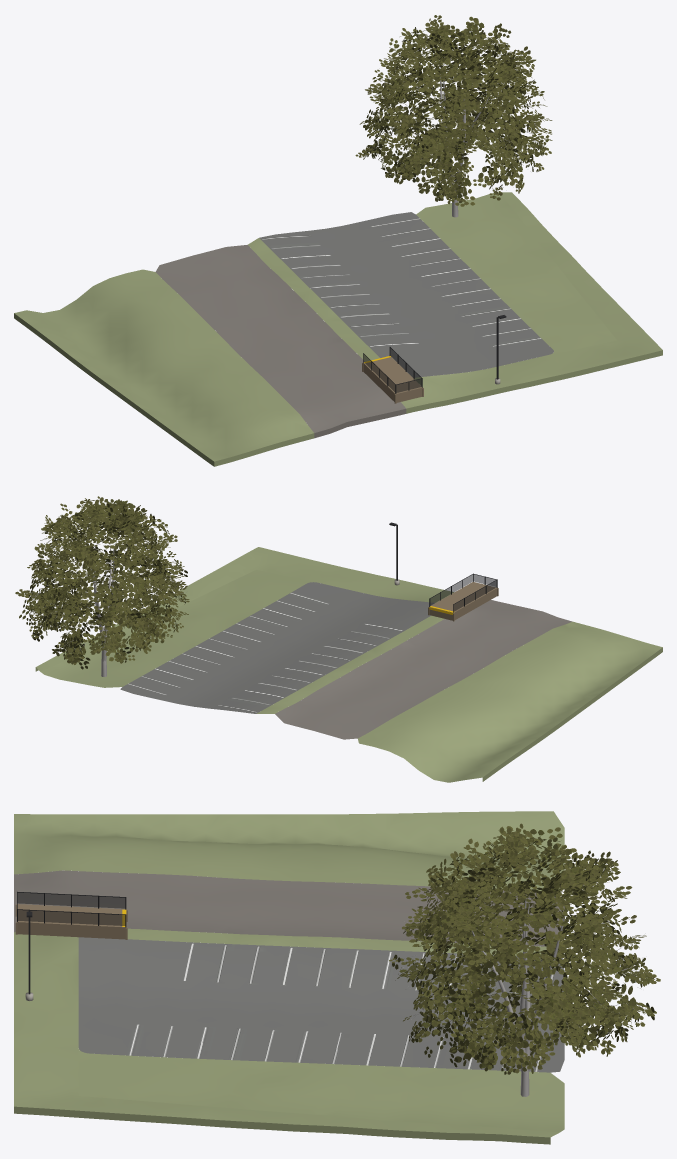
3 renders of one model, top to bottom at view 1: azimuth 30°, elevation 25°; view 2: azimuth 150°, elevation 25°; view 3: azimuth 270°, elevation 25°, orthographic. The views are drawn at different scales.
Visible parts, largest first — view 1: SW_ground_southwest_lawn_-3_-3, SW_ground_southwest_asphalt_-3_-3_UNVERIFIED, SW_Station_Tree_lawn_E2_UNVERIFIEDspecies, SW_ground_southwest_gravel_-3_-3_UNVERIFIED, SW_Station_Mini_high_east_UNVERIFIED; view 2: SW_ground_southwest_lawn_-3_-3, SW_ground_southwest_asphalt_-3_-3_UNVERIFIED, SW_Station_Tree_lawn_E2_UNVERIFIEDspecies, SW_ground_southwest_gravel_-3_-3_UNVERIFIED, SW_Station_Mini_high_east_UNVERIFIED; view 3: SW_ground_southwest_lawn_-3_-3, SW_ground_southwest_asphalt_-3_-3_UNVERIFIED, SW_Station_Tree_lawn_E2_UNVERIFIEDspecies, SW_ground_southwest_gravel_-3_-3_UNVERIFIED, SW_Station_Mini_high_east_UNVERIFIED.
Part boxes in pixels (left/top/right/bottom): SW_ground_southwest_lawn_-3_-3: left=14, top=192, right=662, bottom=466; SW_ground_southwest_asphalt_-3_-3_UNVERIFIED: left=259, top=212, right=553, bottom=377; SW_Station_Tree_lawn_E2_UNVERIFIEDspecies: left=355, top=15, right=552, bottom=217; SW_ground_southwest_gravel_-3_-3_UNVERIFIED: left=155, top=245, right=406, bottom=438; SW_Station_Mini_high_east_UNVERIFIED: left=362, top=347, right=423, bottom=403; SW_ground_southwest_lawn_-3_-3: left=35, top=547, right=662, bottom=782; SW_ground_southwest_asphalt_-3_-3_UNVERIFIED: left=120, top=582, right=435, bottom=713; SW_Station_Tree_lawn_E2_UNVERIFIEDspecies: left=15, top=496, right=189, bottom=676; SW_ground_southwest_gravel_-3_-3_UNVERIFIED: left=275, top=600, right=572, bottom=739; SW_Station_Mini_high_east_UNVERIFIED: left=428, top=573, right=498, bottom=621; SW_ground_southwest_lawn_-3_-3: left=14, top=811, right=564, bottom=1144; SW_ground_southwest_asphalt_-3_-3_UNVERIFIED: left=78, top=937, right=564, bottom=1072; SW_Station_Tree_lawn_E2_UNVERIFIEDspecies: left=389, top=823, right=660, bottom=1096; SW_ground_southwest_gravel_-3_-3_UNVERIFIED: left=14, top=870, right=564, bottom=946; SW_Station_Mini_high_east_UNVERIFIED: left=15, top=891, right=127, bottom=939.
Bounding box in the file's own units: 61.89 × 23.39 × 50.17.
Materials: 12 (2 with a texture image).
